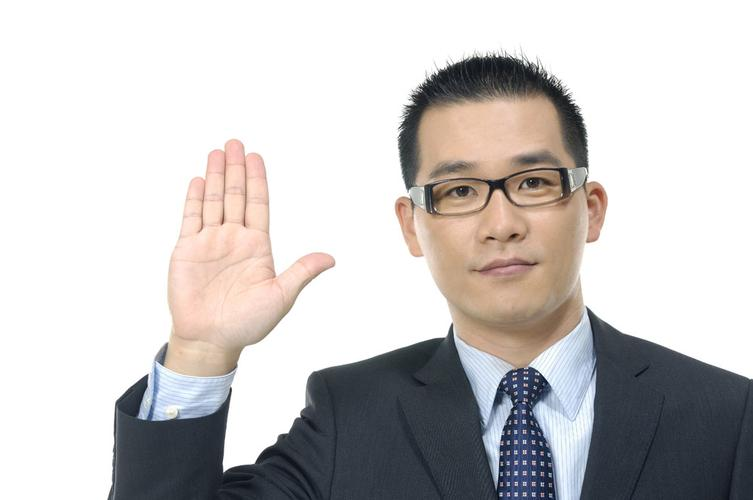no-phone: (162, 137, 338, 345)
